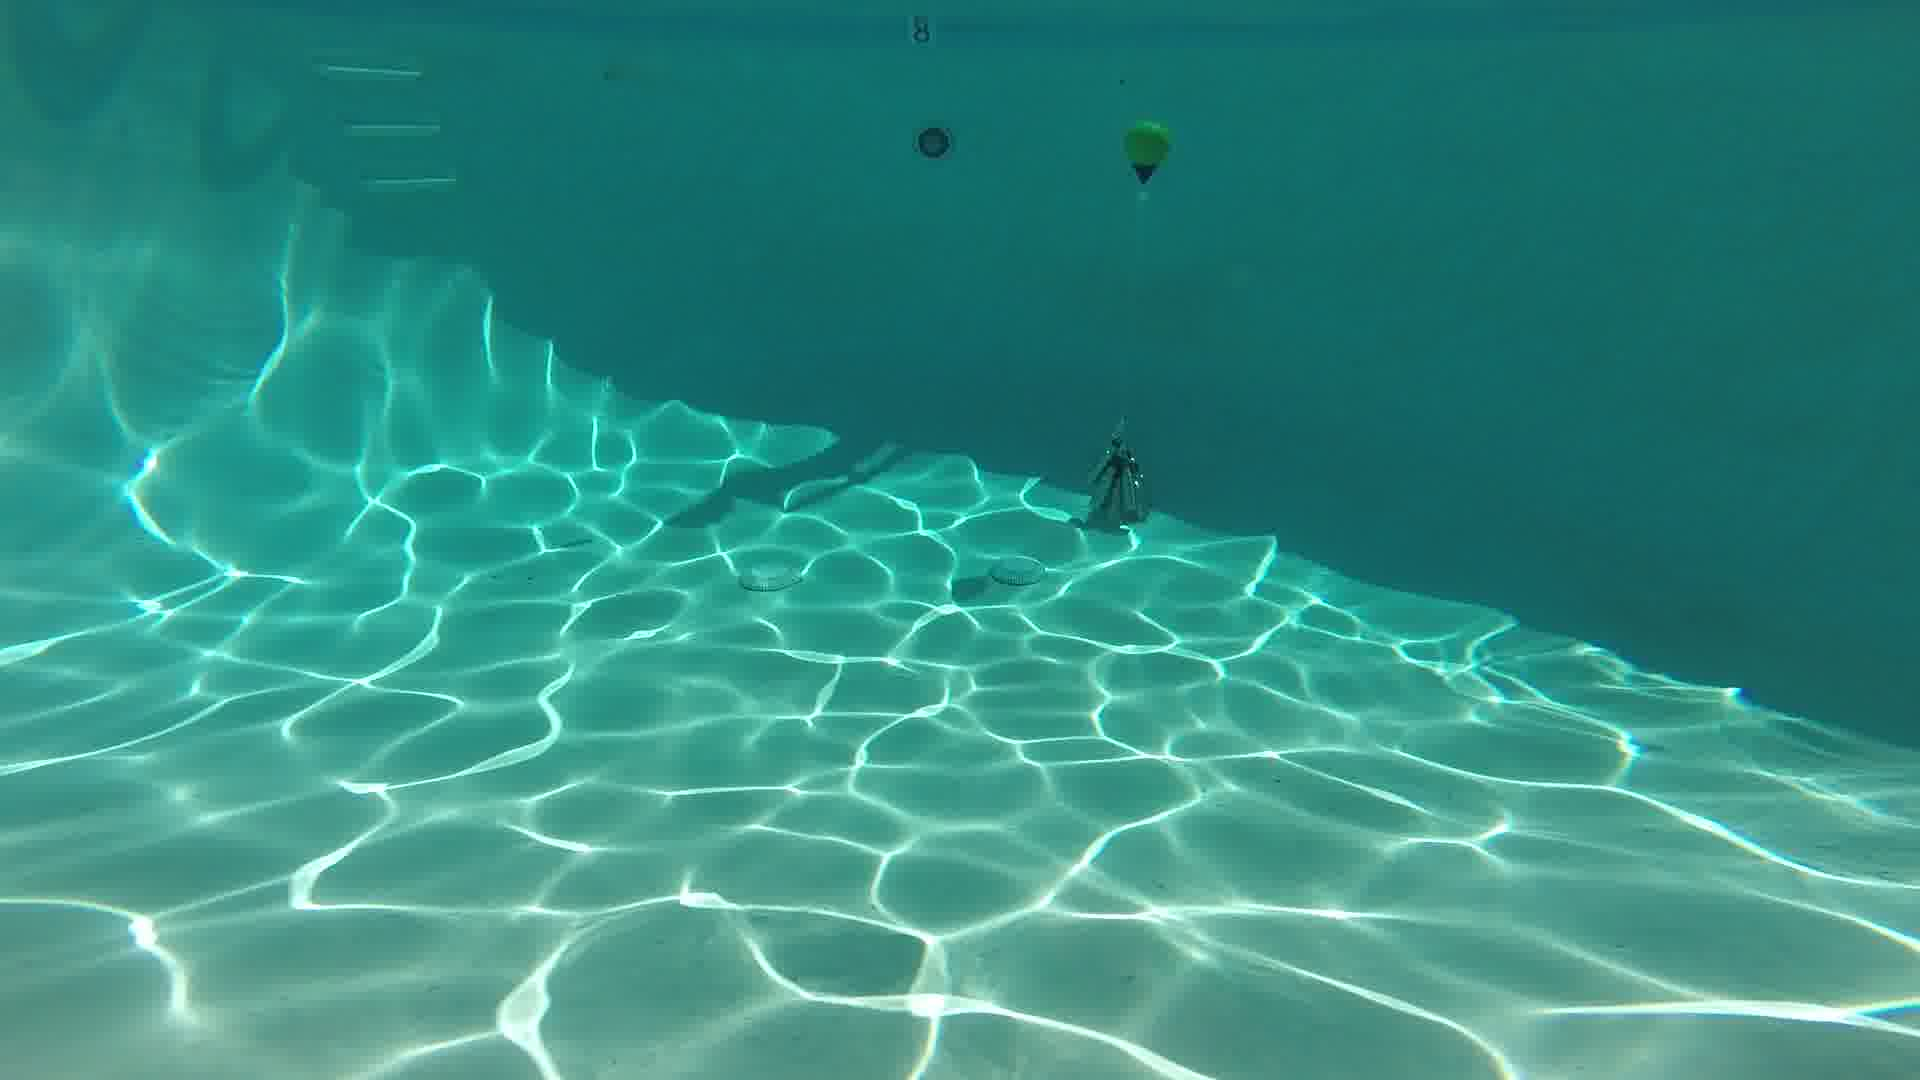yellow_buoy: (1125, 123, 1171, 181)
